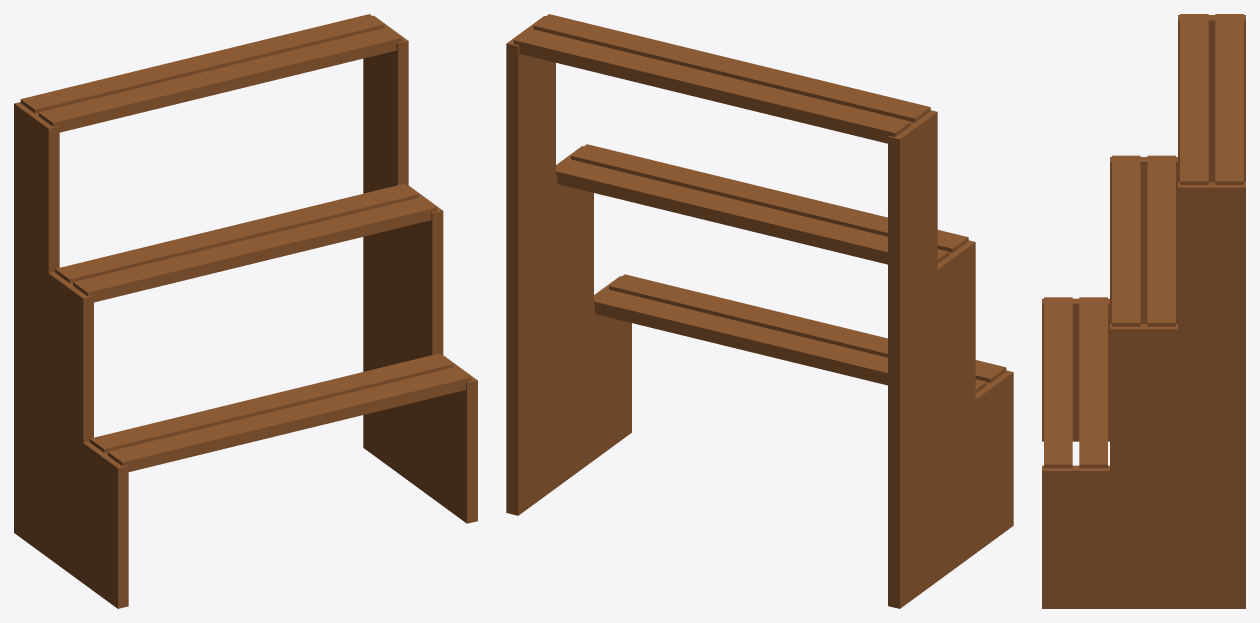
The model's file is SM_Street_PotShelf_Tier3_Wood_60_01.gltf.
3 renders of one model, left to right at view 1: azimuth 30°, elevation 25°; view 2: azimuth 150°, elevation 25°; view 3: azimuth 270°, elevation 25°, orthographic. The views are drawn at different scales.
Parts seen in each view (by area): view 1: SM_Street_PotShelf_Tier3_Wood_60_01; view 2: SM_Street_PotShelf_Tier3_Wood_60_01; view 3: SM_Street_PotShelf_Tier3_Wood_60_01.
Boxes of the visible parts, x1=… form: SM_Street_PotShelf_Tier3_Wood_60_01: x1=14, y1=14, x2=477, y2=608; SM_Street_PotShelf_Tier3_Wood_60_01: x1=506, y1=14, x2=1013, y2=608; SM_Street_PotShelf_Tier3_Wood_60_01: x1=1042, y1=14, x2=1245, y2=608.
Bounding box in the file's own units: 0.6 × 0.69 × 0.3.
Materials: 1 (1 with a texture image).
